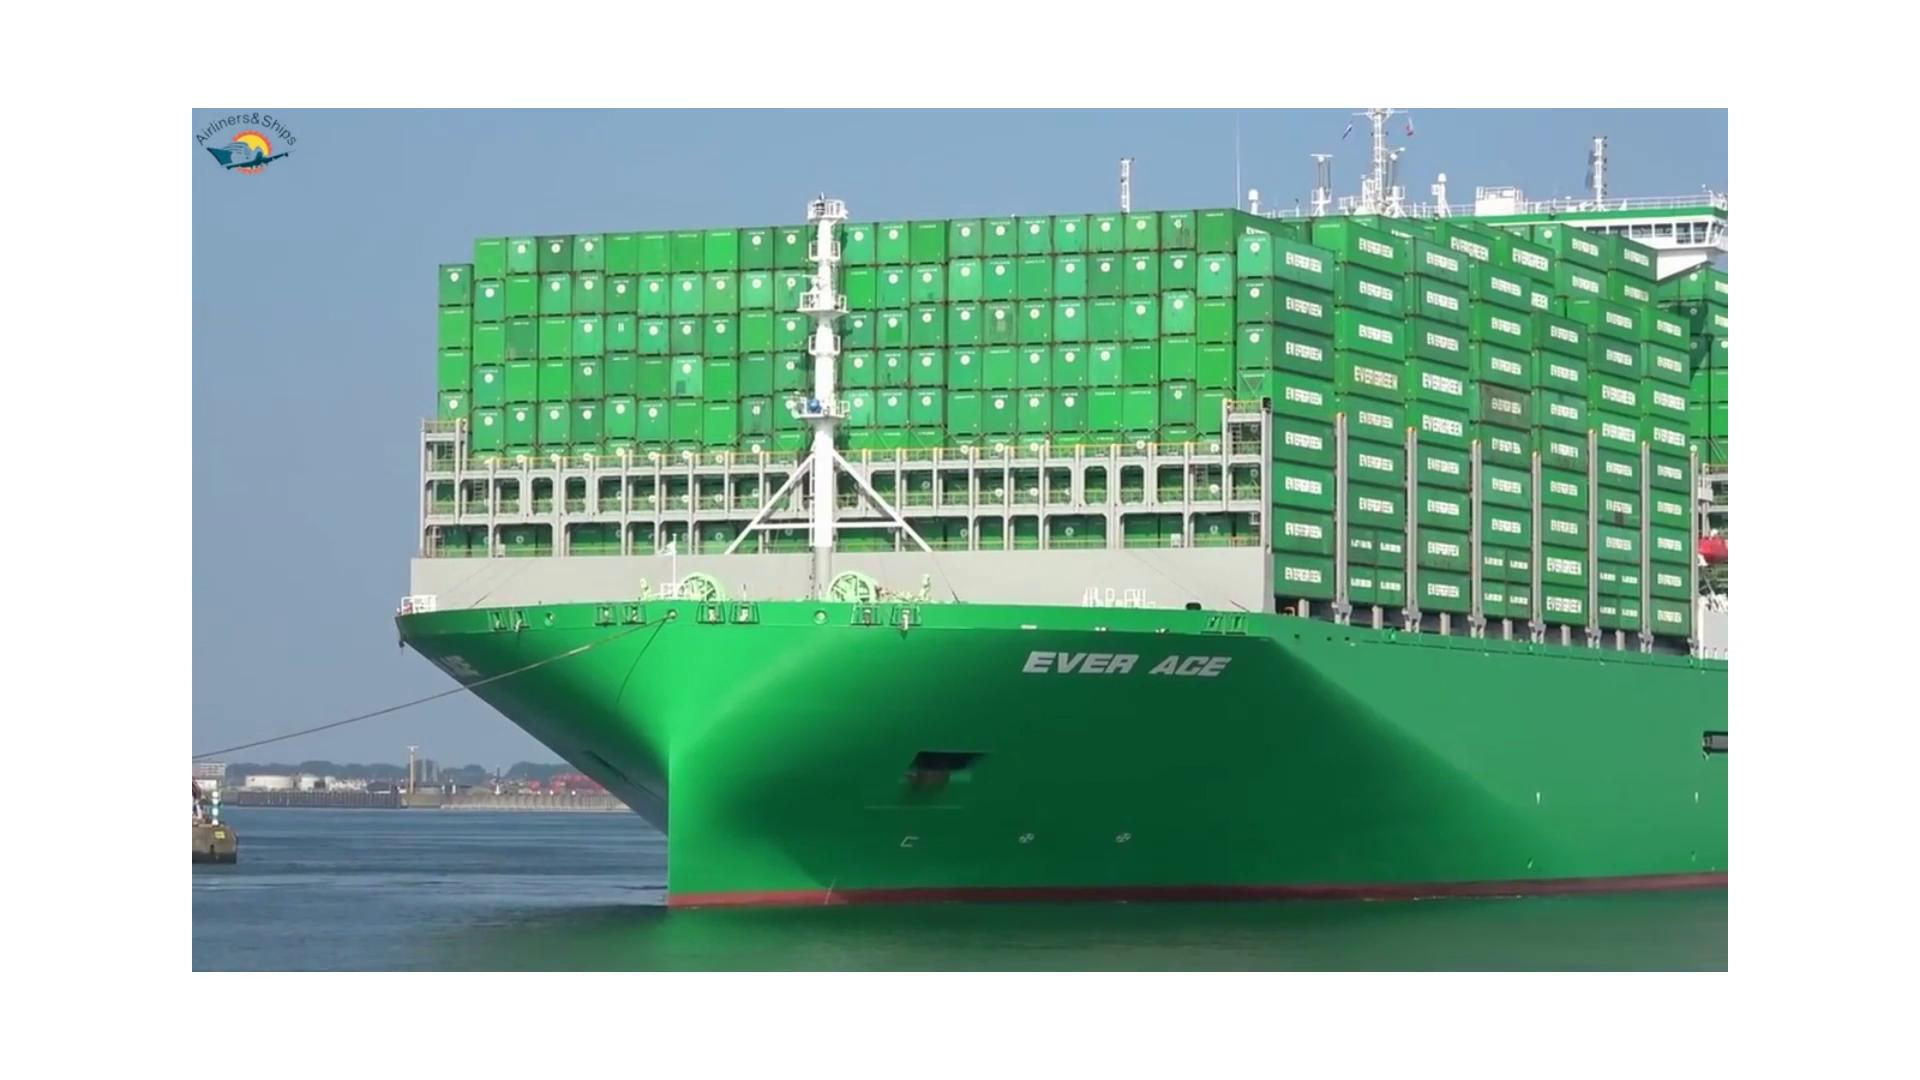OCR: (1004, 625, 1238, 702)
